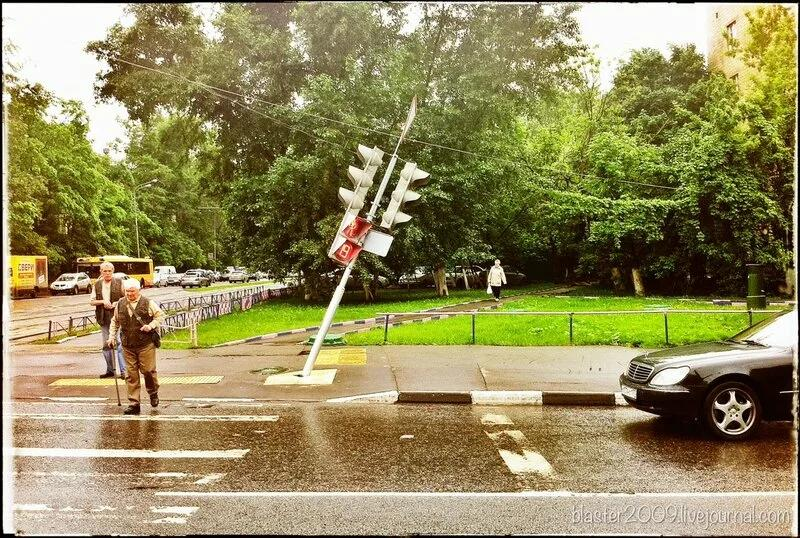off traffic light: (379, 161, 431, 233), (337, 144, 385, 209)
traffic light: (327, 208, 373, 267)
